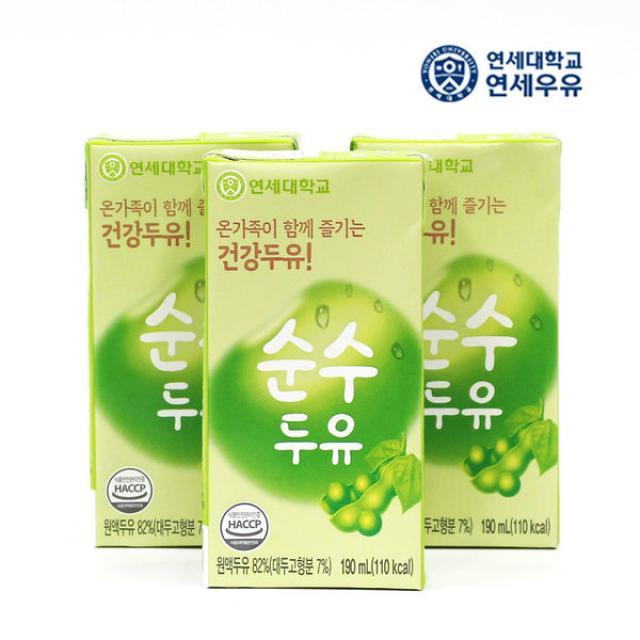Tetra: (339, 132, 566, 569), (83, 124, 307, 566), (211, 155, 421, 581)
